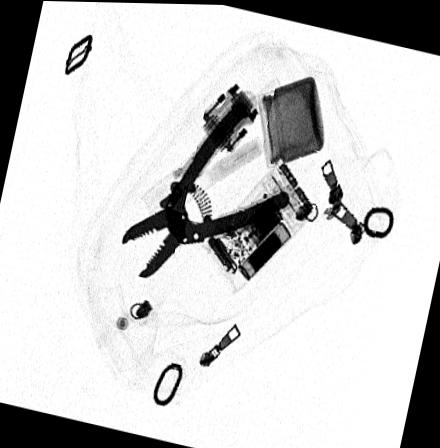Pliers: (120, 95, 290, 278)
